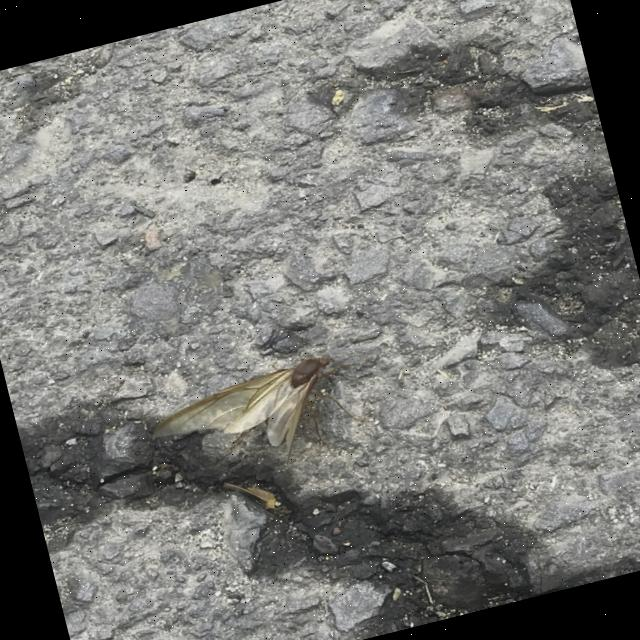Alive-Male-Alate: (140, 339, 392, 496)
